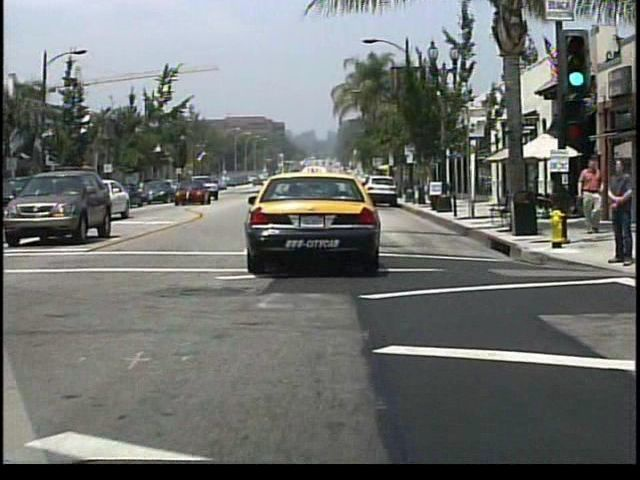person: (608, 157, 633, 269), (576, 159, 602, 235)
